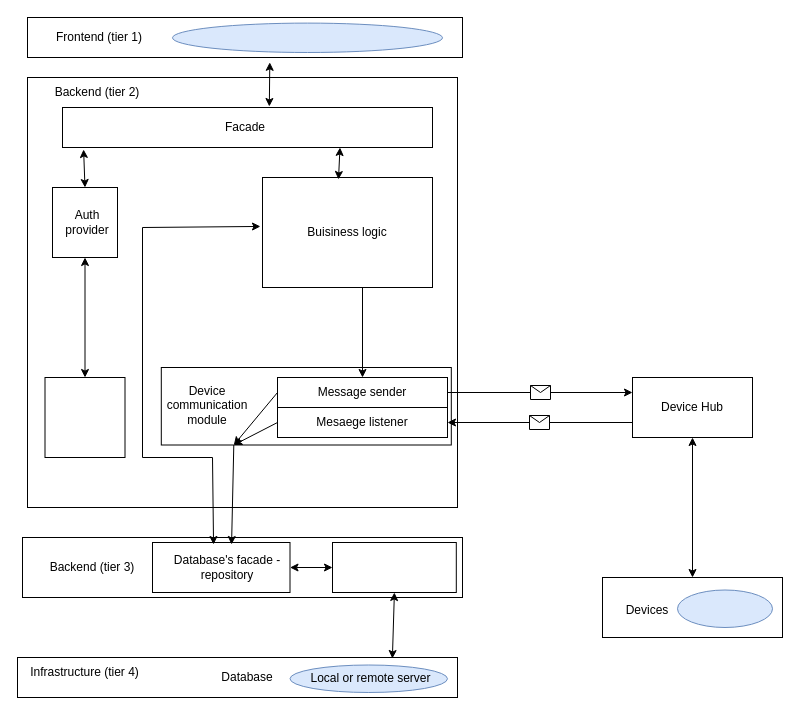
Image size: 800x715. Some labels were removed from this diagram. The shapes that lost their labels are listed below. From the top down, each one's centre as x and y in pixels, then its label:
pixel 307 37: Mobile or desktop app with buisiness secret
pixel 84 417: Local user storage
pixel 394 567: Database's abstraction
pixel 724 608: Mocked with code
